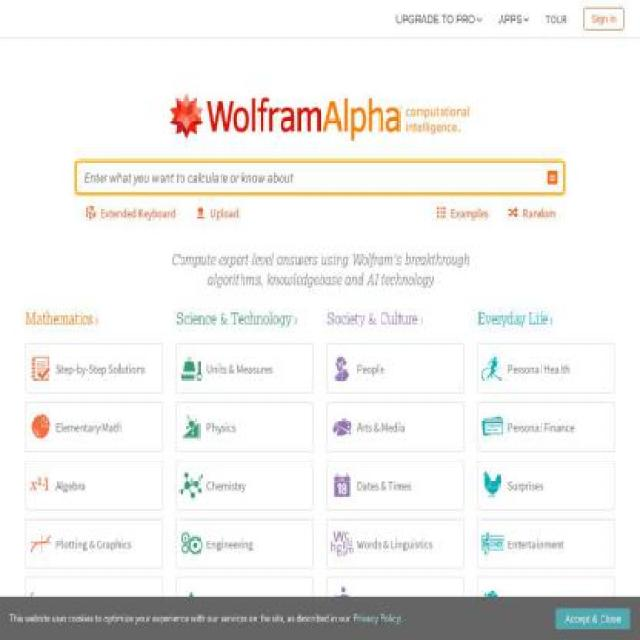button: (164, 55, 476, 162), (175, 343, 314, 394), (175, 459, 314, 510), (175, 576, 314, 627), (326, 343, 465, 394), (326, 459, 465, 510), (326, 576, 465, 627), (25, 343, 163, 394), (25, 459, 163, 510), (25, 576, 163, 627), (477, 343, 615, 394), (477, 459, 615, 510), (477, 576, 615, 627), (175, 402, 314, 452), (175, 518, 314, 568), (326, 402, 465, 452), (326, 518, 465, 568), (25, 402, 163, 452), (25, 518, 163, 568), (477, 402, 615, 452), (477, 518, 615, 568), (390, 4, 490, 33), (175, 308, 314, 327), (326, 308, 465, 327), (25, 308, 163, 327), (477, 308, 615, 327), (76, 201, 184, 224), (554, 607, 632, 630), (427, 201, 496, 224), (499, 201, 564, 224), (186, 201, 248, 224), (492, 4, 537, 33), (540, 4, 574, 33), (584, 7, 624, 30), (353, 609, 401, 626), (25, 635, 164, 639), (175, 635, 314, 639), (326, 635, 465, 639), (477, 635, 615, 639), (546, 169, 559, 186)
field: (81, 161, 542, 194)
